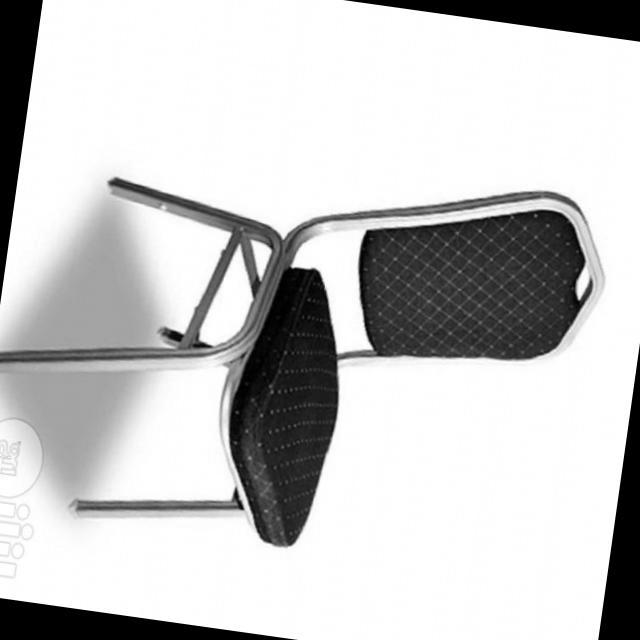chair: (0, 115, 622, 595)
